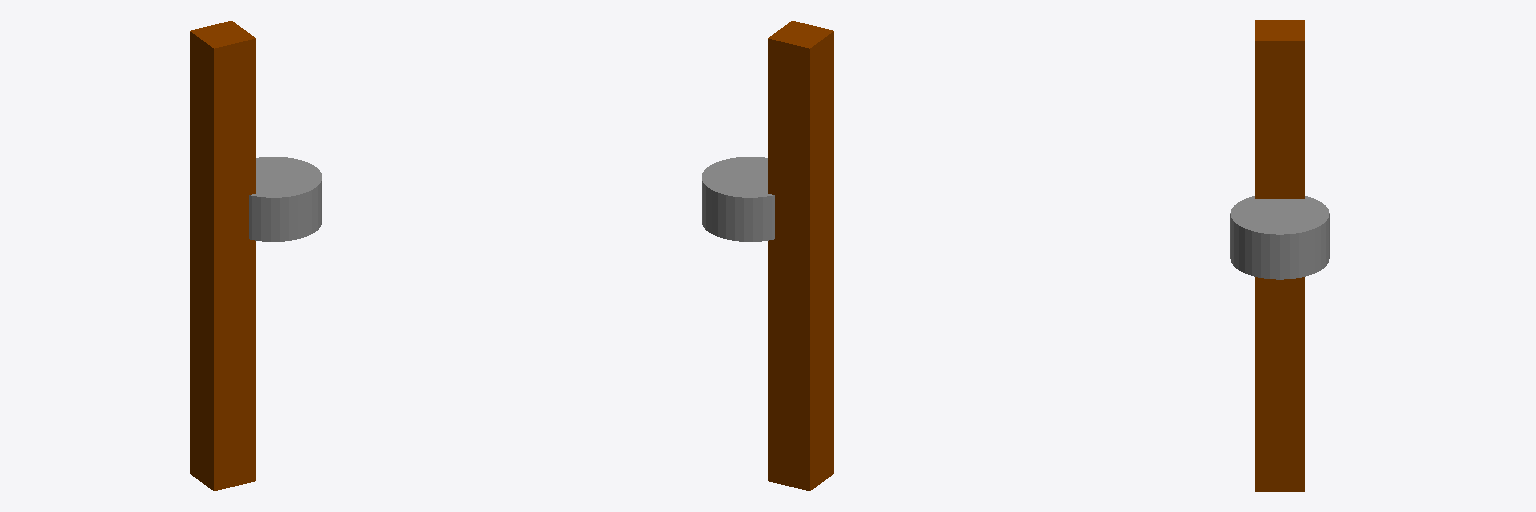
The robot description file, URDF, robot "awesome_leg_complete":
<?xml version="1.0" encoding="utf-8" ?>

<!-- 
    Leg complete urdf with sliding hip (no plugins, etc..). Mainly used by Horizon.
-->

<robot name="awesome_leg_complete" xmlns:xacro="http://www.ros.org/wiki/xacro">

    <!-- ################### MATERIAL DEFINITIONS ################### -->
Ì
    <material name="sky_blue">
        <color rgba="0.13 0.44 0.70 1"/>
    </material>
    <material name="grey">
        <color rgba=" 0.6 0.6 0.6 1"/>
    </material>
    <material name="black">
        <color rgba="0.4 0.4 0.4 1"/>
    </material>
    <material name="brown">
        <color rgba="0.59 0.29 0.0 1"/>
    </material>

    <!-- ################### LINKS ################### -->
    <link name="world"/>

    <link name="test_rig"> <!-- test rig link; defined here to be able to cope with passive joints -->
      <visual>
          <origin rpy="0 0 0" xyz="-0.12 0 0" />
          <geometry>
              <box size="0.1 0.1 1" />
          </geometry>
          <material name="brown"/>
      </visual>
      
      <collision>
          <origin rpy="0 0 0" xyz="-0.12 0 0" />
          <geometry>
              <box size="0.1 0.1 1" />
          </geometry>
      </collision>
      
      <inertial>
          <mass value="0.1" />
          <inertia ixx="0.03" iyy="0.03" izz="0.03" ixy="0.0" ixz="0.0" iyz="0.0" />
      </inertial>

    </link>  

    <link name="pelvis">
        <inertial>
        <mass value="1.0"/> <!-- considering also the mass contribution of the robot torso -->
        <inertia ixx="0.00208333333333" ixy="0.0" ixz="0.0" iyy="0.00208333333333" iyz="0.0" izz="0.0025"/>
        </inertial>
        <visual>
        <material name="grey"/>
        <geometry>
            <cylinder length="0.1" radius="0.1"/>
        </geometry>
        </visual>
        <visual>
        <geometry>
            <cylinder length="0.1" radius="0.1"/>
        </geometry>
        </visual>
    </link>

    <link name="hip1_1">
        <inertial>
        <origin xyz="0.010214199 0.0 0.038090987"/>
        <mass value="1.9194403"/>
        <inertia ixx="0.0047439572" ixy="-0.0" ixz="-0.0003784138" iyy="0.0040551878" iyz="-0.0" izz="0.0034146219"/>
        </inertial>
        <visual>
        <origin rpy="0.0 0.0 2.03221245002" xyz="0.0 0.0 0.0"/>
        <geometry>
            <mesh filename="package://awesome_leg/description/meshes/visual/hip-yaw.stl" scale="0.001 0.001 0.001"/>
        </geometry>
        <material name="grey"/>
        </visual>
        <collision>
        <origin rpy="0.0 0.0 2.03221245002" xyz="0.0 0.0 0.0"/>
        <geometry>
            <mesh filename="package://awesome_leg/description/meshes/collision/hip-yaw.stl" scale="0.001 0.001 0.001"/>
        </geometry>
        </collision>
    </link>

    <link name="hip2_1">
        <inertial>
        <origin xyz="2.57966e-05 0.1810266 0.085669756"/>
        <mass value="2.7264471"/>
        <inertia ixx="0.04851869" ixy="-4.11894e-05" ixz="-1.68778e-05" iyy="0.004242055" iyz="0.0032243188" izz="0.04825583"/>
        </inertial>
        <visual>
        <origin rpy="0.0 0.0 0.0" xyz="0.0 0.0 0.0"/>
        <material name="sky_blue"/>
        <geometry>
            <mesh filename="package://awesome_leg/description/meshes/visual/hip-pitch.stl" scale="0.001 0.001 0.001"/>
        </geometry>
        </visual>
        <collision>
        <origin rpy="0.0 0.0 0.0" xyz="0.0 0.0 0.0"/>
        <geometry>
            <mesh filename="package://awesome_leg/description/meshes/collision/hip-pitch.stl" scale="0.001 0.001 0.001"/>
        </geometry>
        </collision>
    </link>

    <link name="knee_1">
        <inertial>
        <mass value="1.1927236"/>
        <origin rpy="0.0 0.0 0.0" xyz="0.19572282 -0.014549221 -0.020785942"/>
        <inertia ixx="0.0013302597" ixy="0.00060307457" ixz="0.0" iyy="0.035313402" iyz="-1.1029574e-07" izz="0.035530025"/>
        </inertial>
        <visual>
        <origin rpy="1.57079632679 0 -1.57079632679" xyz="0 0 0"/>
        <material name="grey"/>
        <geometry name="1_stick_visual">
            <mesh filename="package://awesome_leg/description/meshes/visual/front_right_stick.stl" scale="0.001 0.001 0.001"/>
        </geometry>
        </visual>
        <collision>
        <origin rpy="1.57079632679 0 -1.57079632679" xyz="0 0 0"/>
        <geometry name="1_stick_collision">
            <mesh filename="package://awesome_leg/description/meshes/collision/front_right_stick.stl" scale="0.001 0.001 0.001"/>
        </geometry>
        </collision>
    </link>
    
    <link name="tip"/> <!-- just for reference-->

    <!-- ################### JOINTS ################### -->
    
    <joint name="world_test_rig" type="fixed">
    <parent link="world"/>
    <child link="test_rig"/>
    </joint>

    <joint name="passive_joint" type="prismatic">
      <parent link="test_rig" />
      <child link="pelvis" />
      <origin xyz="0 0 0.1" />
      <axis xyz="0 0 1" />
      <dynamics damping="0.0" friction="0.0" />
      <limit lower="-1" upper="1.0" effort="80" velocity="15.0" />
  </joint>

    <joint name="hip_yaw_1" type="fixed">
        <parent link="pelvis"/>
        <child link="hip1_1"/>
        <origin rpy="3.14159265359 0.0 0.0" xyz="0.0 -0.0 -0.0566"/>
    </joint>

    <joint name="hip_pitch_1" type="revolute">
        <parent link="hip1_1"/>
        <child link="hip2_1"/>
        <origin rpy="1.57079632679 0.0 1.5707963268" xyz="0.0 0.0 0.0625"/>
        <axis xyz="0 0 1"/>
        <limit effort="112" lower="-2.0226" upper="2.02748" velocity="20.0"/>
    </joint>

    <joint name="knee_pitch_1" type="revolute">
        <parent link="hip2_1"/>
        <child link="knee_1"/>
        <origin rpy="3.14159265359 0.0 1.57079632679" xyz="0.0 0.3 -0.0036"/>
        <axis xyz="0 0 1"/>
        <limit effort="112" lower="-2.0226" upper="2.02748" velocity="20.0"/>
    </joint>

    <joint name="tip_joint" type="fixed">
        <parent link="knee_1"/>
        <child link="tip"/>
        <origin xyz="0.45 0.0 -0.02"/>
    </joint>

</robot>

--- Facts derived from the render (not from the file) ---
Views: 3 orthographic renders of the robot side by side, from view 1: azimuth 30°, elevation 25°; view 2: azimuth 150°, elevation 25°; view 3: azimuth 270°, elevation 25°.
Robot: awesome_leg_complete — 7 links, 6 joints (2 revolute, 1 prismatic, 3 fixed); root link world; default pose: every joint at zero.
Visible links, largest first — view 1: test_rig, pelvis; view 2: test_rig, pelvis; view 3: test_rig, pelvis.
Link boxes in pixels (x1,y1,x2,y2): test_rig: [190, 21, 255, 490]; pelvis: [249, 157, 321, 241]; test_rig: [768, 21, 833, 490]; pelvis: [702, 157, 774, 241]; test_rig: [1255, 20, 1304, 491]; pelvis: [1230, 196, 1329, 279].
Bounding box of the posed robot: 0.27 × 0.2 × 1 m (x, y, z).
0 mesh visuals loaded from 3 distinct referenced files (none loaded); not drawn: 3 (reference not matched to a file when rendering).